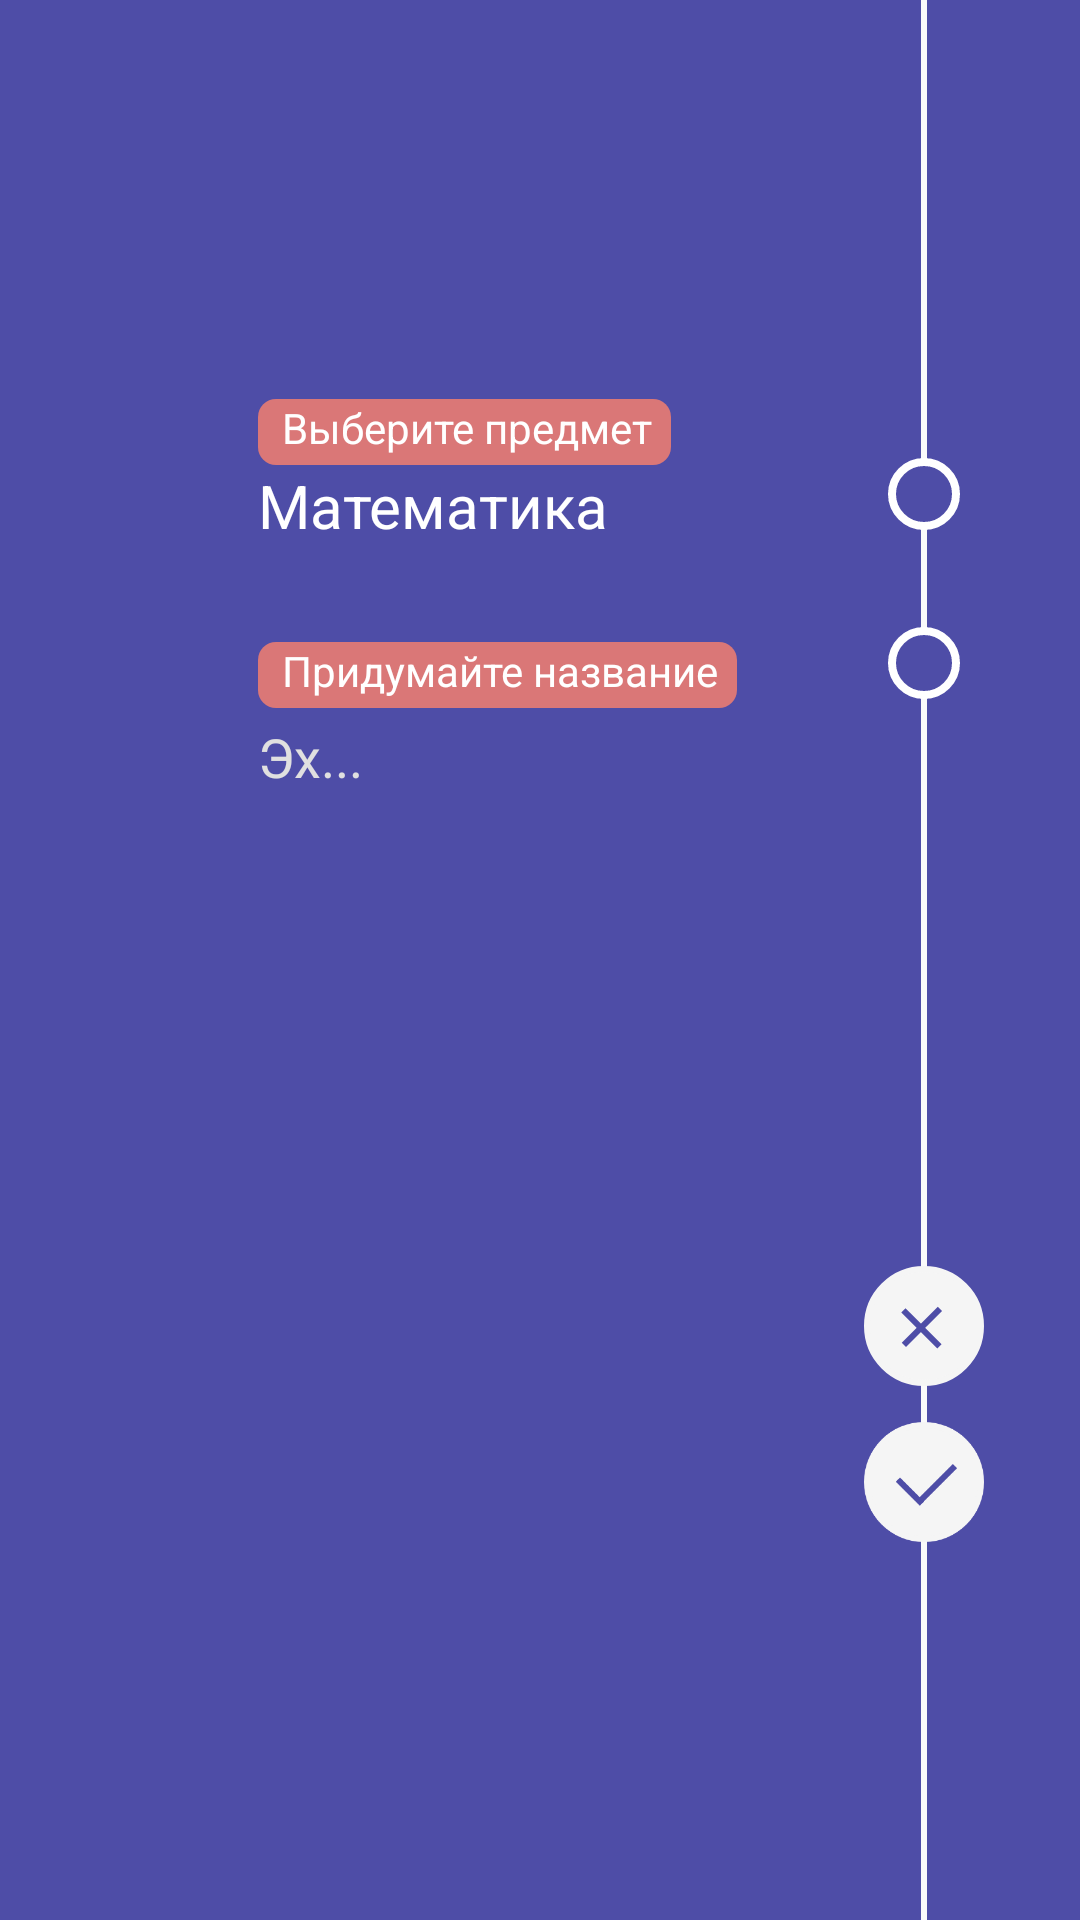

Icon bounding boxes for this 1080*1920 phone screenshot, format (x1, y1, x2, y2):
circle close: (864, 1266, 984, 1386)
circle confirm: (864, 1422, 984, 1542)
